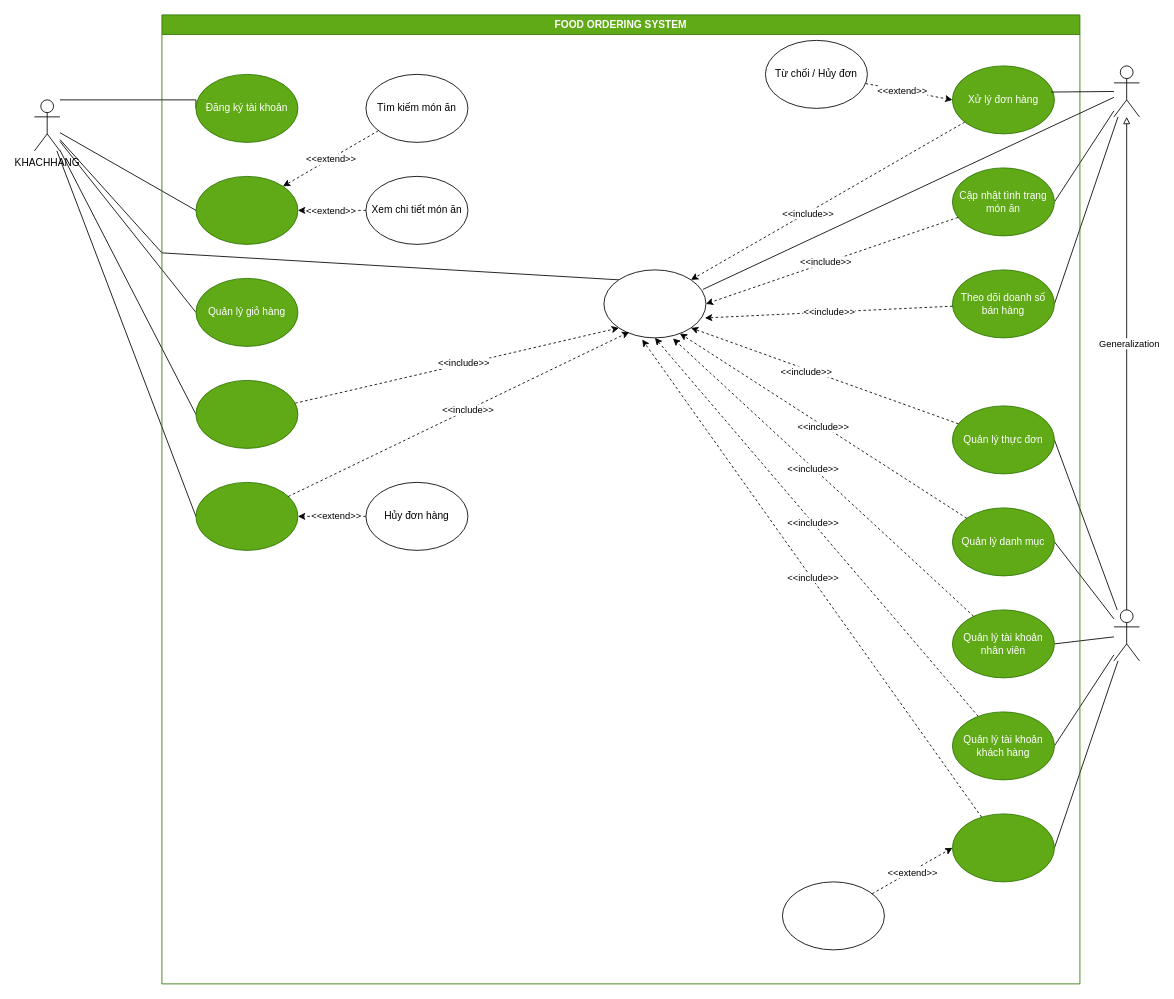
Some shapes in this 1174 by 999 pixel diagram are drawn without their labels. Here are the shapes that lost their labels. From the top down, the box of each, then its label:
(1113, 65, 1139, 117): NHANVIEN
(195, 176, 298, 244): Tra cứu thực đơn
(603, 269, 706, 338): Đăng nhập
(195, 380, 298, 448): Đặt hàng và thanh toán
(195, 482, 298, 550): Tra cứu đơn hàng
(1113, 609, 1139, 661): QUANLI
(952, 813, 1054, 882): Xem báo cáo thống kê
(782, 881, 884, 950): Xuất file báo cáo
